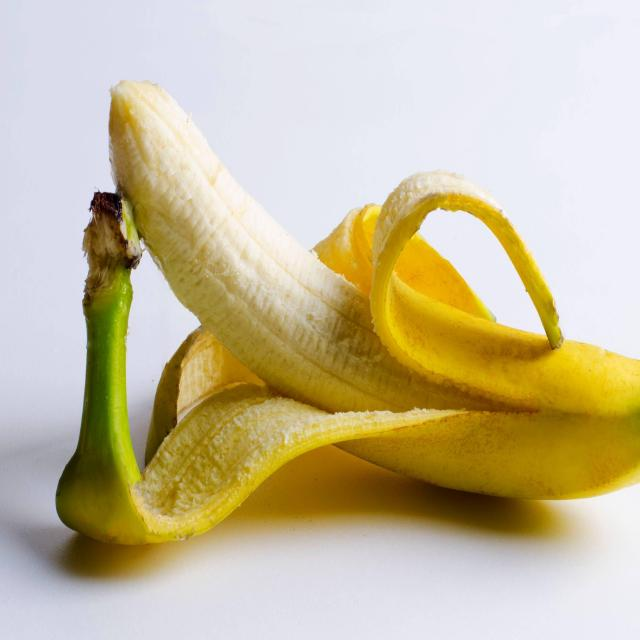banana: (67, 74, 640, 562)
